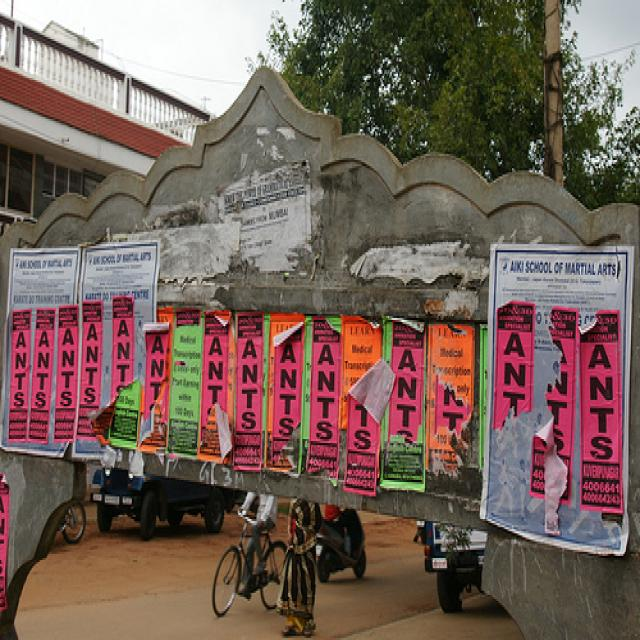motor: (315, 508, 367, 583)
